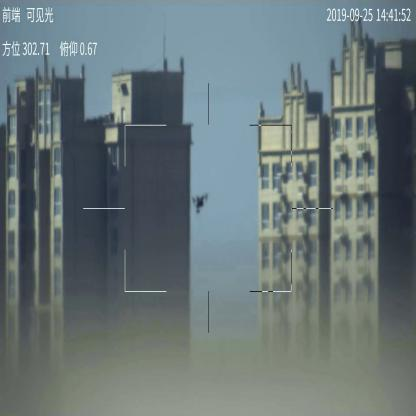uav: (190, 192, 211, 215)
